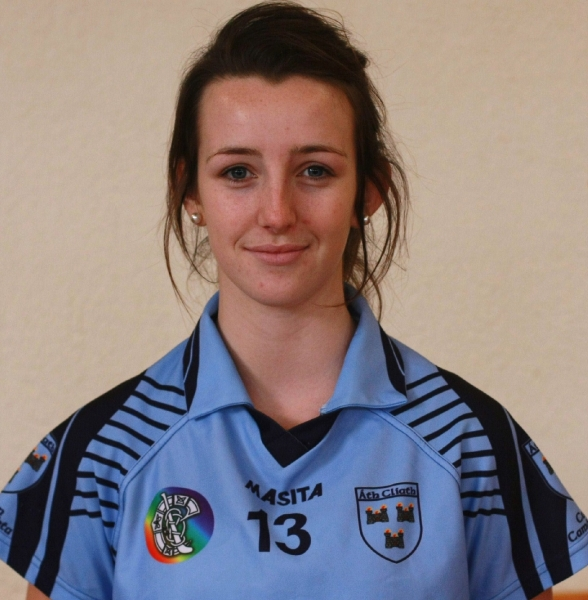player: (86, 9, 503, 580)
